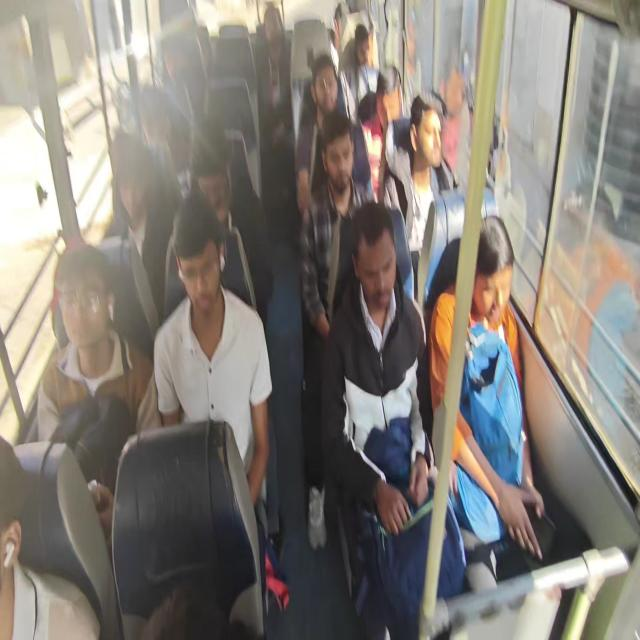person: (24, 2, 565, 637), (320, 200, 467, 638), (136, 195, 276, 617), (428, 214, 562, 602), (36, 237, 152, 544), (298, 110, 375, 550), (0, 433, 102, 639), (98, 129, 180, 347), (188, 118, 272, 324), (381, 90, 450, 298), (254, 4, 296, 238), (295, 54, 341, 218), (356, 70, 402, 201)
